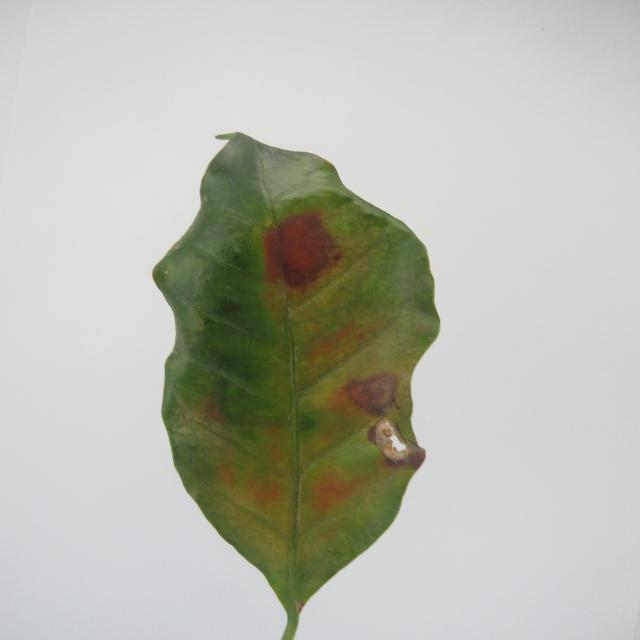DeficienciaNutricional-Fosforo: (153, 132, 438, 640)
